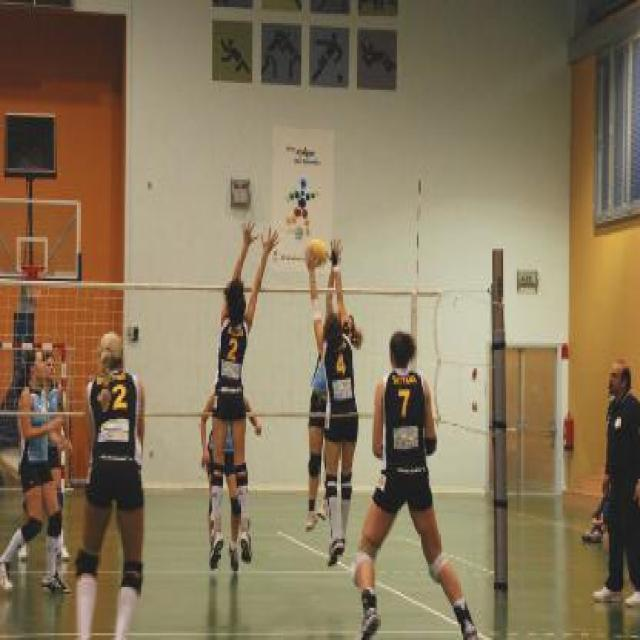volleyball: (306, 239, 329, 267)
